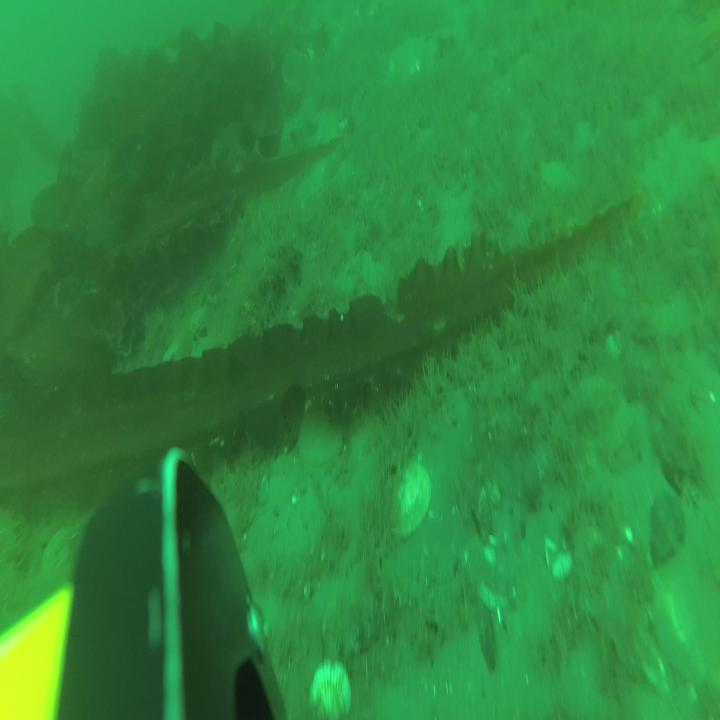scallop: (650, 565, 720, 685), (389, 455, 433, 534), (301, 405, 346, 472), (308, 660, 352, 720)
